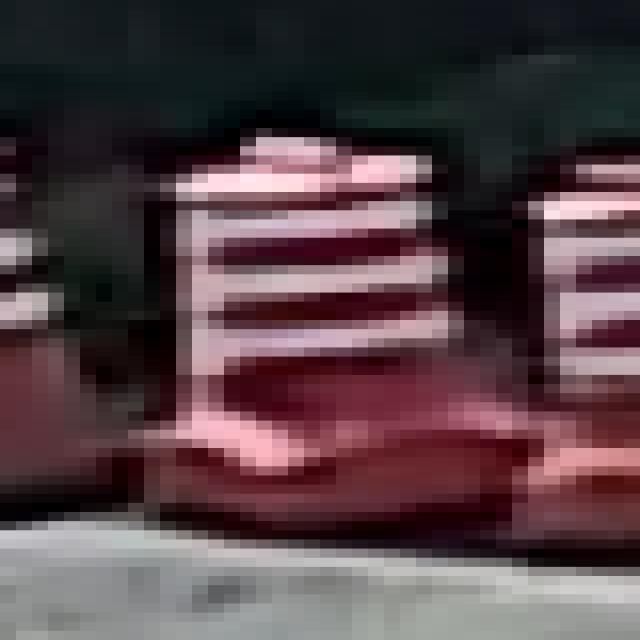big_cone: (164, 138, 442, 534)
